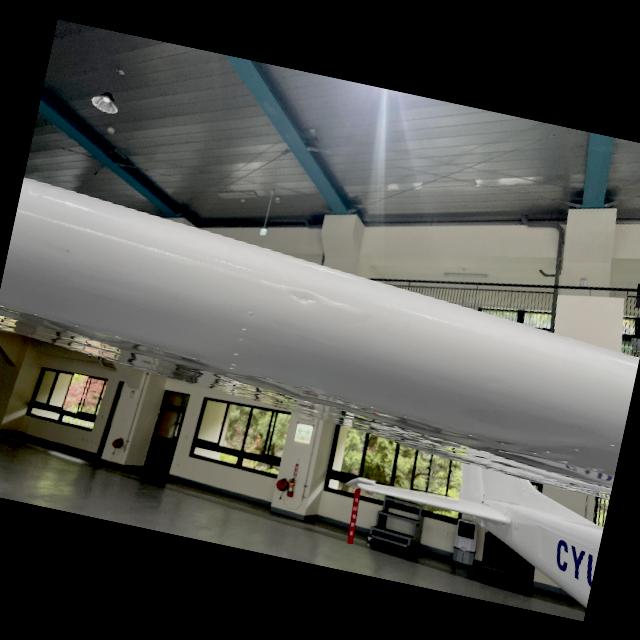dent: (274, 280, 336, 315)
